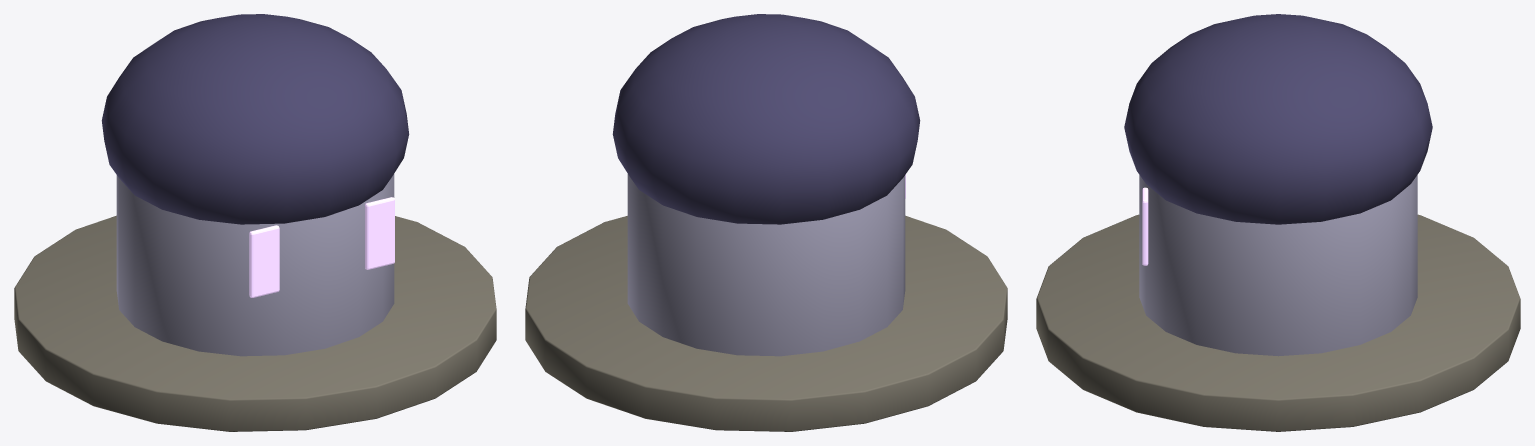
The model's file is landmark-mystic.glb.
3 views of the same model, side by side, from view 1: azimuth 30°, elevation 25°; view 2: azimuth 150°, elevation 25°; view 3: azimuth 270°, elevation 25° (orthographic).
Visible parts, largest first — view 1: Geometry_Stone, Geometry_Roof, Geometry_Wall, Geometry_Window; view 2: Geometry_Stone, Geometry_Roof, Geometry_Wall; view 3: Geometry_Stone, Geometry_Roof, Geometry_Wall, Geometry_Window.
Part boxes in pixels (x1=…): Geometry_Stone: x1=14, y1=215, x2=496, y2=431; Geometry_Roof: x1=101, y1=14, x2=409, y2=224; Geometry_Wall: x1=116, y1=174, x2=394, y2=356; Geometry_Window: x1=249, y1=197, x2=394, y2=297; Geometry_Stone: x1=525, y1=215, x2=1007, y2=431; Geometry_Roof: x1=612, y1=14, x2=920, y2=224; Geometry_Wall: x1=627, y1=174, x2=905, y2=356; Geometry_Stone: x1=1036, y1=214, x2=1520, y2=431; Geometry_Roof: x1=1124, y1=14, x2=1432, y2=224; Geometry_Wall: x1=1139, y1=175, x2=1417, y2=356; Geometry_Window: x1=1142, y1=187, x2=1148, y2=265.
Size of the model in its own units: 8 by 5.4 by 8.
